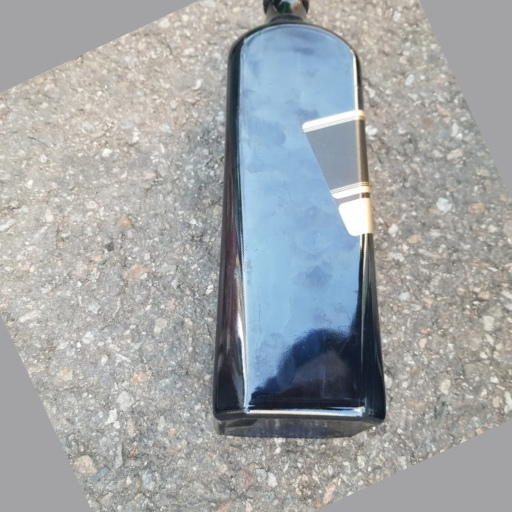Glass_2: (206, 1, 386, 441)
